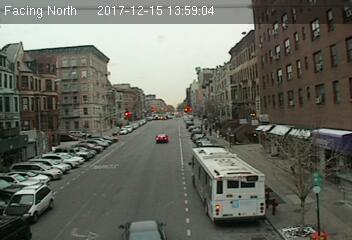bus: (190, 145, 268, 225)
car: (4, 184, 53, 219), (117, 219, 166, 240)
